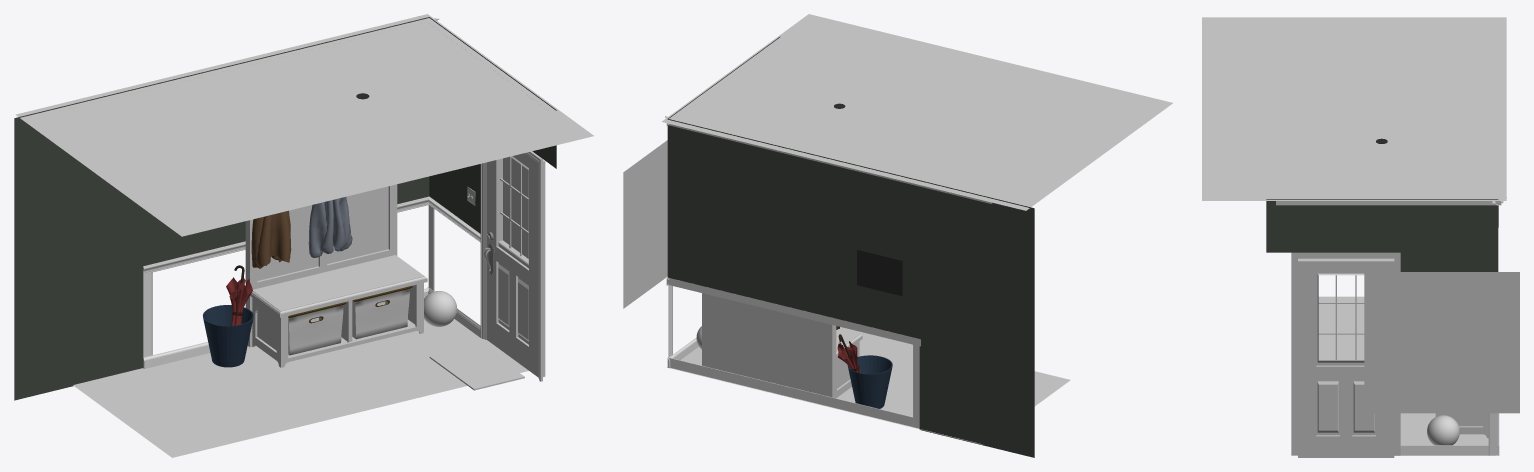
Rendered from Coat Rack and Bench.dae.
3 renders of one model, left to right at view 1: azimuth 30°, elevation 25°; view 2: azimuth 150°, elevation 25°; view 3: azimuth 270°, elevation 25°, orthographic. The views are drawn at different scales.
Parts seen in each view (by area): view 1: ceiling, wall, floor, door, back, Bench_top, rug, bin, wicker_basket_001, wicker_basket, coat_2, outside_background (+17 smaller); view 2: wall, ceiling, back, outside_background, floor, floor_moulding_left, chair_rail, bin, crown_moulding_left, frame, crown_moulding_right; view 3: ceiling, outside_background, wall, door, floor, crown_moulding_right, door_moulding_right, crown_moulding_left, floor_moulding_right, basketball, door_moulding_top, side_plywood (+2 smaller).
Part boxes in pixels (<box>): ceiling: <box>15,14,593,236</box>; wall: <box>14,17,556,400</box>; floor: <box>73,319,528,457</box>; door: <box>486,153,545,377</box>; back: <box>245,186,388,345</box>; Bench_top: <box>253,255,423,310</box>; rug: <box>429,344,524,390</box>; bin: <box>202,305,253,367</box>; wicker_basket_001: <box>352,286,412,339</box>; wicker_basket: <box>288,302,346,355</box>; coat_2: <box>308,197,352,257</box>; outside_background: <box>503,157,528,258</box>; wall: <box>667,37,1034,457</box>; ceiling: <box>662,14,1172,210</box>; back: <box>702,293,834,397</box>; outside_background: <box>623,140,667,308</box>; floor: <box>667,327,1070,444</box>; floor_moulding_left: <box>668,357,919,428</box>; chair_rail: <box>668,277,920,346</box>; bin: <box>847,355,892,408</box>; crown_moulding_left: <box>665,116,999,203</box>; frame: <box>857,249,902,296</box>; crown_moulding_right: <box>666,40,782,125</box>; ceiling: <box>1202,17,1506,200</box>; outside_background: <box>1364,272,1519,413</box>; wall: <box>1266,199,1498,271</box>; door: <box>1298,258,1394,457</box>; floor: <box>1318,296,1499,455</box>; crown_moulding_right: <box>1270,197,1506,205</box>; door_moulding_right: <box>1291,253,1297,455</box>; crown_moulding_left: <box>1492,33,1498,205</box>; floor_moulding_right: <box>1400,445,1499,455</box>; basketball: <box>1427,415,1459,445</box>; door_moulding_top: <box>1291,252,1400,258</box>; side_plywood: <box>1443,413,1482,426</box>.
Bounding box in the file's own units: 15.22 × 10.13 × 9.06.
